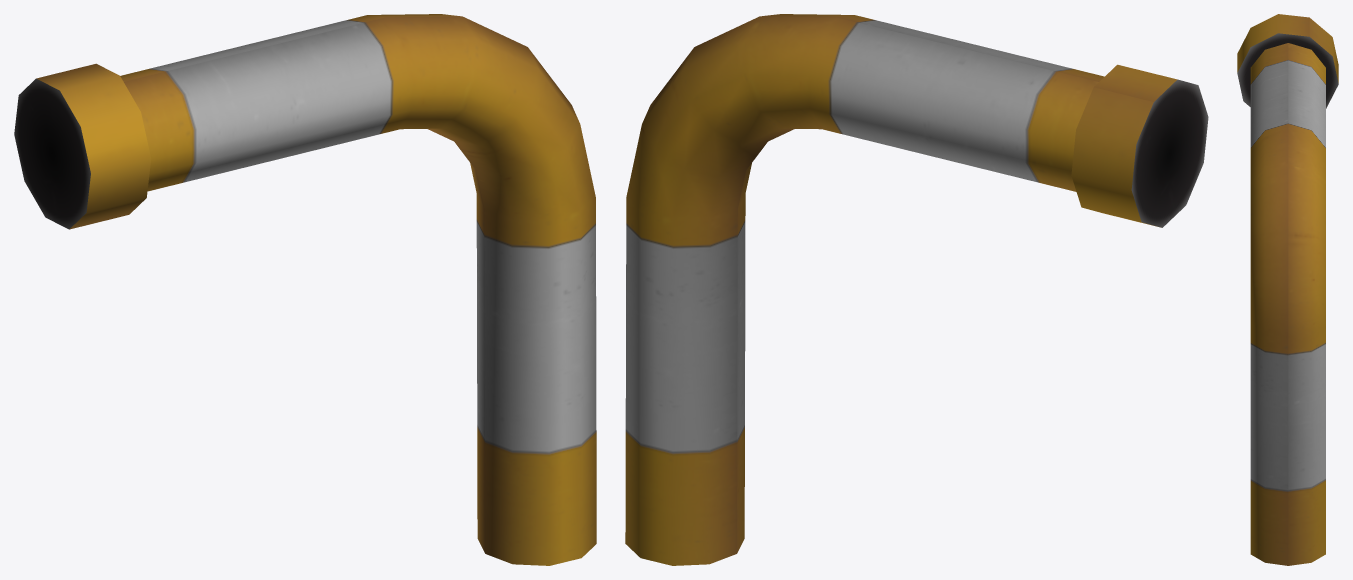
Rendered from Pipe_AngleOut_01.FBX.
3 renders of one model, left to right at view 1: azimuth 30°, elevation 25°; view 2: azimuth 150°, elevation 25°; view 3: azimuth 270°, elevation 25°, orthographic. The views are drawn at different scales.
Parts seen in each view (by area): view 1: Pipe_AngleOut_01; view 2: Pipe_AngleOut_01; view 3: Pipe_AngleOut_01.
Part boxes in pixels (x1,y1,x2,y2): Pipe_AngleOut_01: [14, 14, 596, 565]; Pipe_AngleOut_01: [625, 14, 1208, 565]; Pipe_AngleOut_01: [1237, 14, 1338, 565].
Size of the model in its own units: 85.54 by 87.5 by 21.22.
